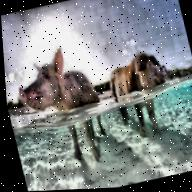boar: (9, 39, 120, 172), (99, 37, 188, 139)
